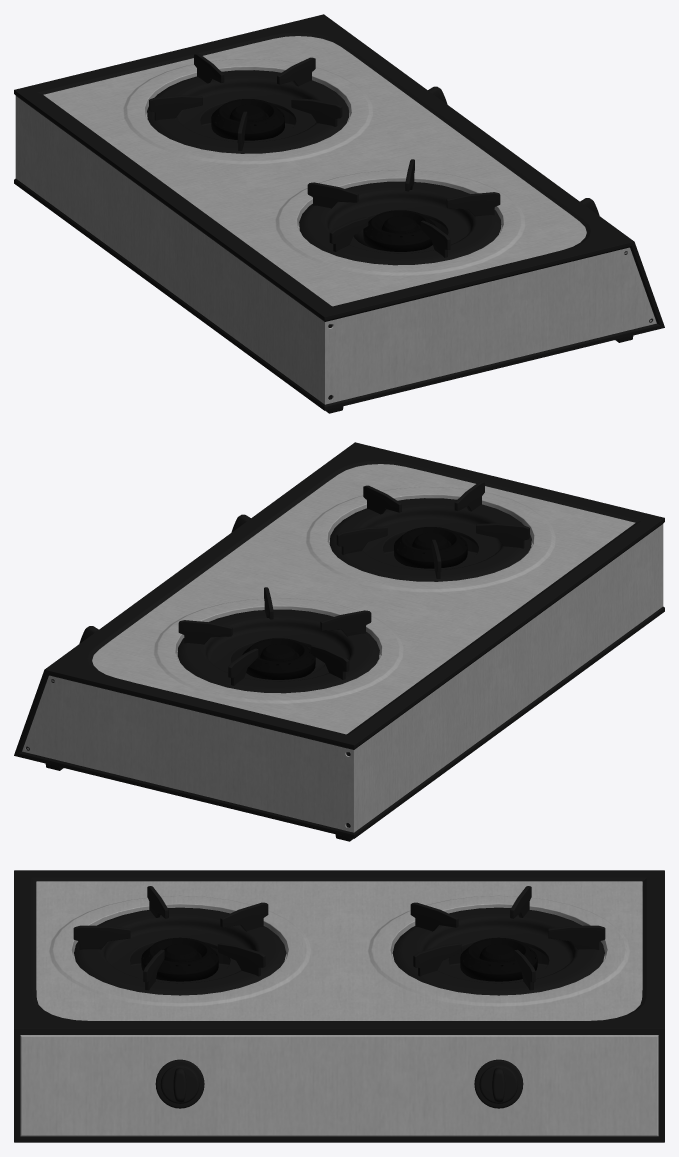
The model's file is stove.fbx.
3 renders of one model, top to bottom at view 1: azimuth 30°, elevation 25°; view 2: azimuth 150°, elevation 25°; view 3: azimuth 270°, elevation 25°, orthographic. The views are drawn at different scales.
Parts seen in each view (by area): view 1: Cube.007, Cube.008; view 2: Cube.007, Cube.008; view 3: Cube.007, Cube.008, gas_knob2, gas_knob1.
Boxes of the visible parts, x1,y1,x2,y2 form: Cube.007: (14,14,664,413); Cube.008: (211,99,436,251); Cube.007: (14,442,664,841); Cube.008: (242,527,467,679); Cube.007: (14,870,664,1142); Cube.008: (141,937,537,981); gas_knob2: (155,1059,204,1108); gas_knob1: (474,1059,523,1108).
Bounding box in the file's own units: 63.2 × 21.36 × 96.09.
4 materials, 2 textured.
